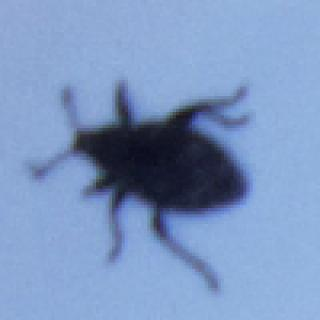bvw: (28, 76, 253, 296)
